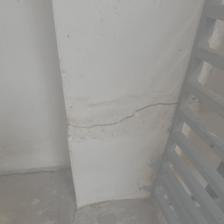High: (62, 97, 181, 145)
